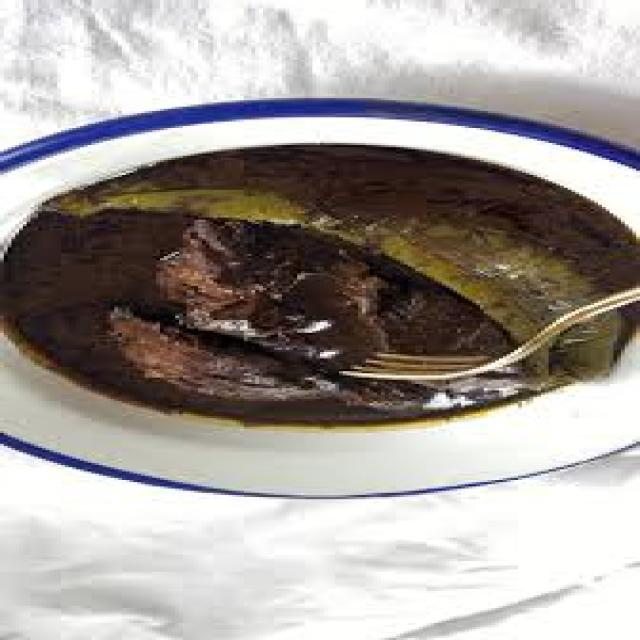Melloukhia: (0, 114, 632, 506)
